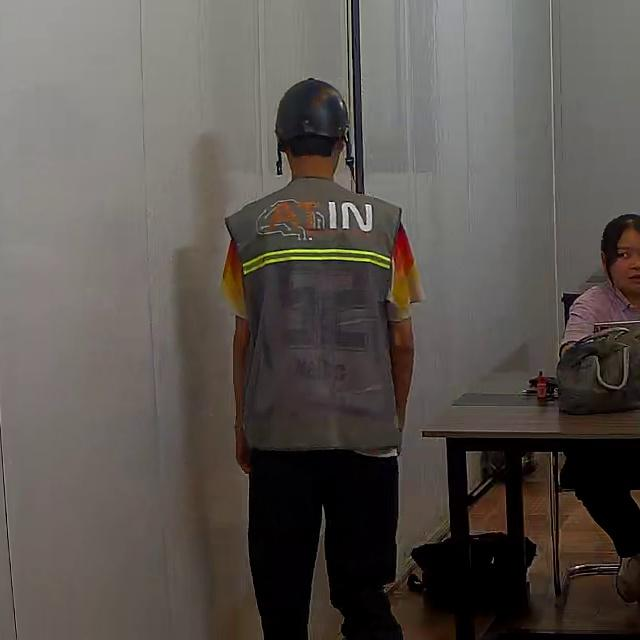helmet: (272, 76, 353, 159)
no_helmet: (600, 214, 640, 274)
none: (561, 281, 640, 351)
vest: (224, 183, 408, 455)
